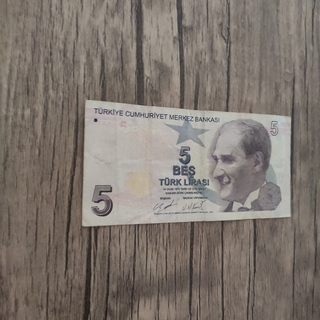5TLFront: (81, 98, 292, 227)
